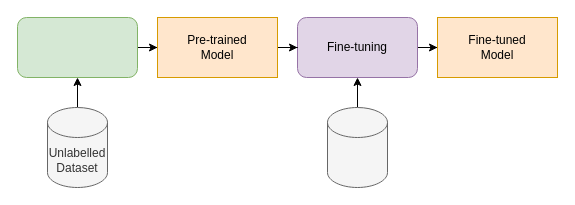
This 575x205 diagram has some shape labels left out. Each missing label, with the centre of its shape:
"Labelled Dataset" goes at point 357,147.
"Pre-training" goes at point 77,47.
